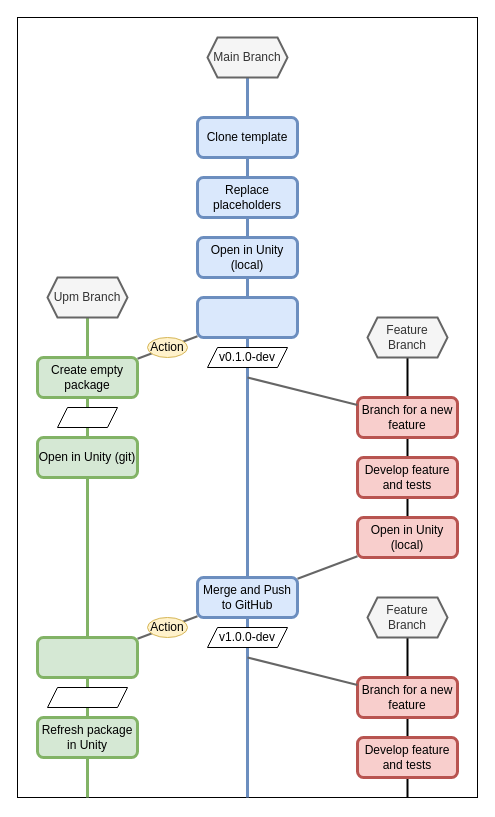
This 495x817 diagram has some shape labels left out. The box of each missing label's shape, as (x1, y1, x2, y2) in pixels:
Push to GitHub: (196, 296, 298, 338)
Update Package: (36, 636, 138, 678)
v0.1.0: (56, 406, 118, 428)
v1.0.0: (46, 686, 128, 708)
